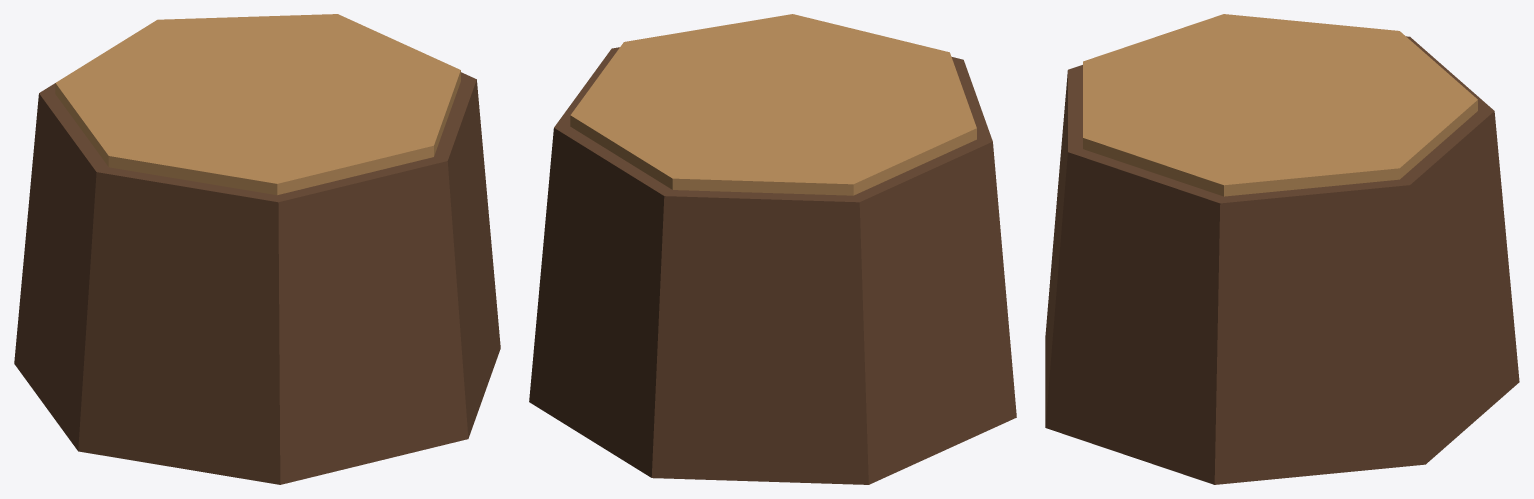
The model's file is tree_stump.glb.
3 renders of one model, left to right at view 1: azimuth 30°, elevation 25°; view 2: azimuth 150°, elevation 25°; view 3: azimuth 270°, elevation 25°, orthographic.
Visible parts, largest first — view 1: tree_stump.001; view 2: tree_stump.001; view 3: tree_stump.001.
Boxes of the visible parts, x1,y1,x2,y2 form: tree_stump.001: [14, 14, 500, 484]; tree_stump.001: [529, 14, 1016, 484]; tree_stump.001: [1045, 14, 1519, 484].
Bounding box in the file's own units: 0.585 × 0.375 × 0.5703.
1 material, 1 textured.
